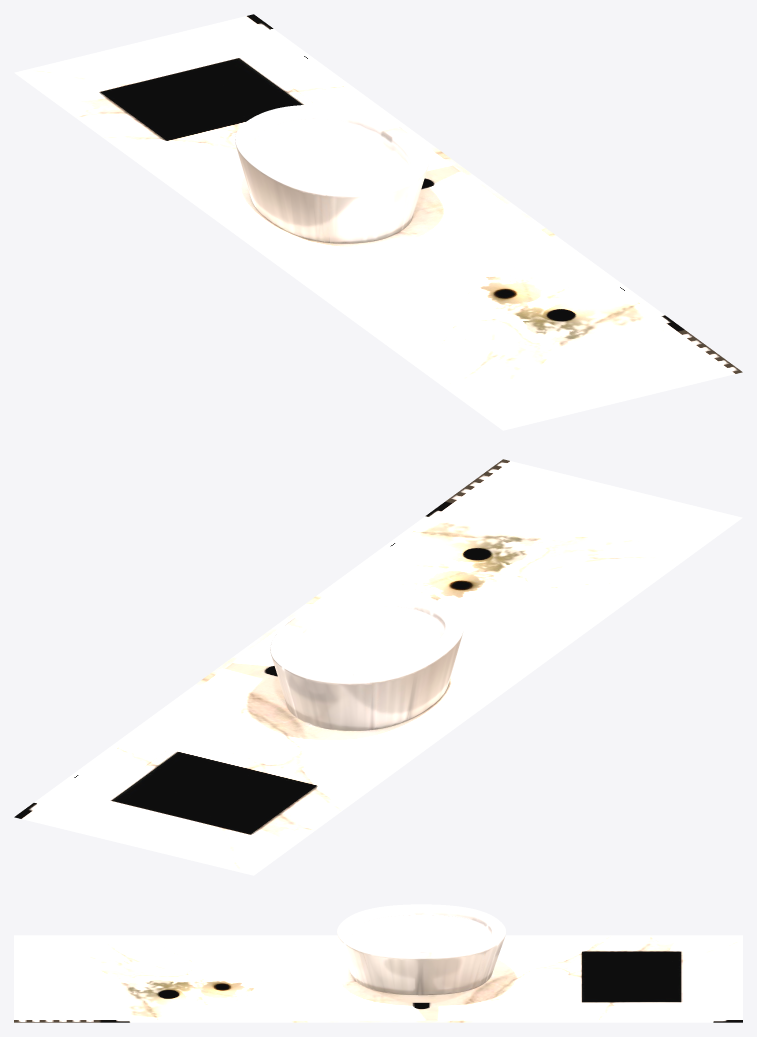
The model's file is self_clean_final.glb.
3 views of the same model, one above another, from view 1: azimuth 30°, elevation 25°; view 2: azimuth 150°, elevation 25°; view 3: azimuth 270°, elevation 25° (orthographic). The views are drawn at different scales.
Visible parts, largest first — view 1: self_clean_final; view 2: self_clean_final; view 3: self_clean_final.
Boxes of the visible parts, box(x1,y1,x2,y2) form: self_clean_final: box(14, 14, 742, 430); self_clean_final: box(14, 459, 742, 875); self_clean_final: box(14, 904, 742, 1022).
Size of the model in its own units: 0.61 by 0.135 by 2.15.
1 material, 1 textured.
